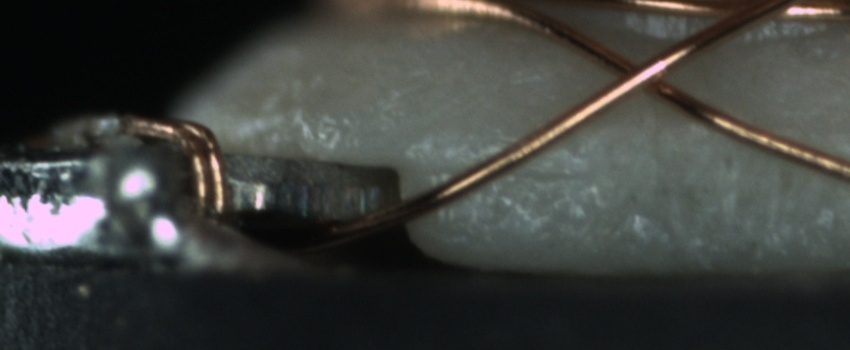CL: (595, 44, 684, 105)
DL: (425, 151, 585, 202)
TE: (119, 110, 233, 234)
